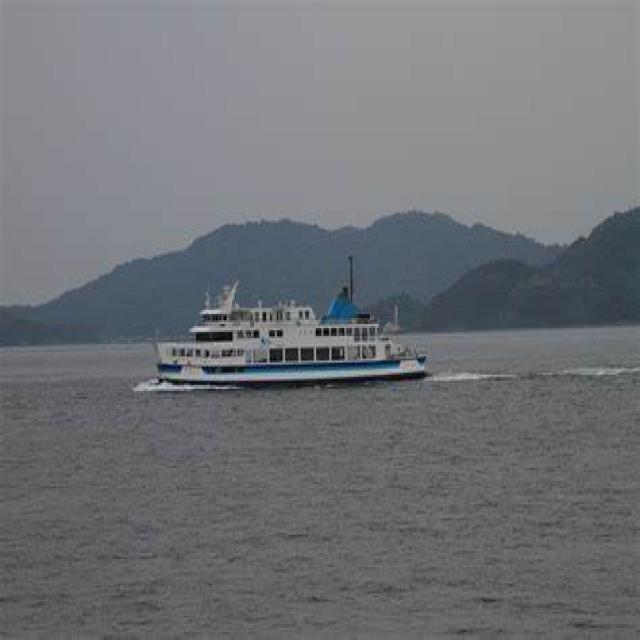houseboat: (121, 258, 432, 383)
